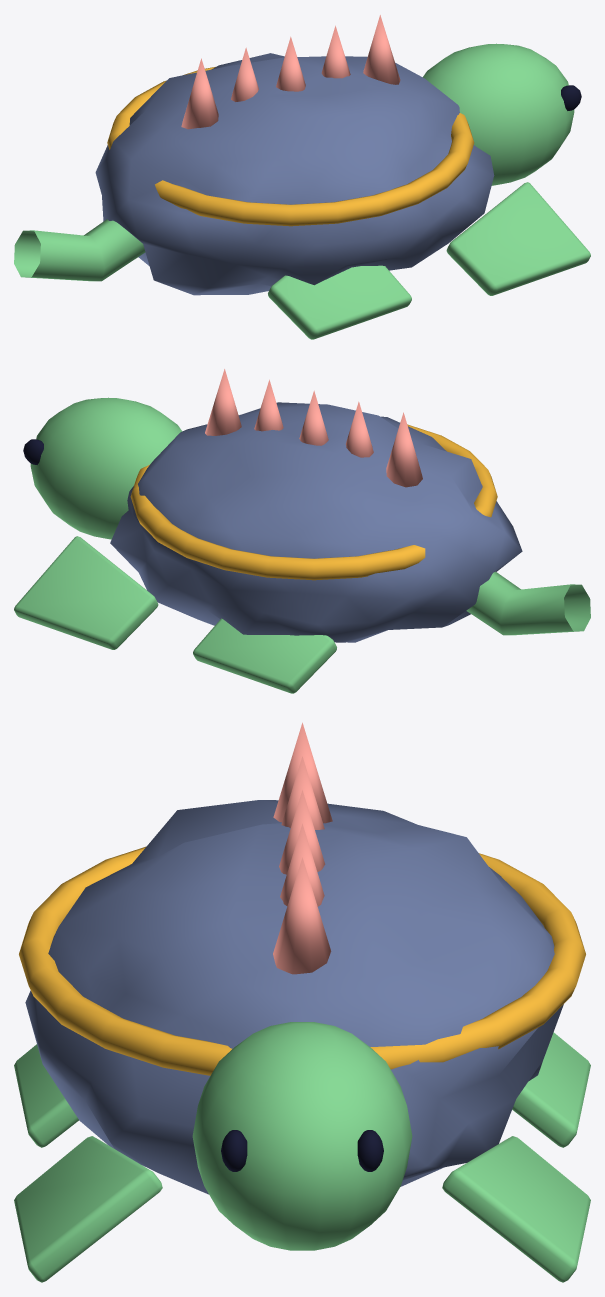
The model's file is r053_dungeon_boss_dragon_turtle.glb.
The picture shows the model from 3 angles, top to bottom: view 1: azimuth 30°, elevation 25°; view 2: azimuth 150°, elevation 25°; view 3: azimuth 270°, elevation 25°; orthographic projection. The views are drawn at different scales.
Parts seen in each view (by area): view 1: r053_dungeon_boss_dragon_turtle.001; view 2: r053_dungeon_boss_dragon_turtle.001; view 3: r053_dungeon_boss_dragon_turtle.001.
Boxes of the visible parts, bbox=[...] form: r053_dungeon_boss_dragon_turtle.001: bbox=[14, 15, 590, 339]; r053_dungeon_boss_dragon_turtle.001: bbox=[14, 369, 590, 693]; r053_dungeon_boss_dragon_turtle.001: bbox=[14, 722, 590, 1282].
Size of the model in its own units: 5.48 by 2.24 by 3.25.
